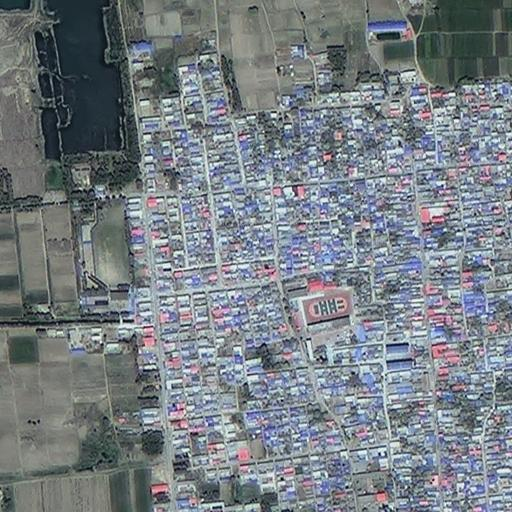school: (73, 197, 135, 302), (282, 278, 360, 335)
